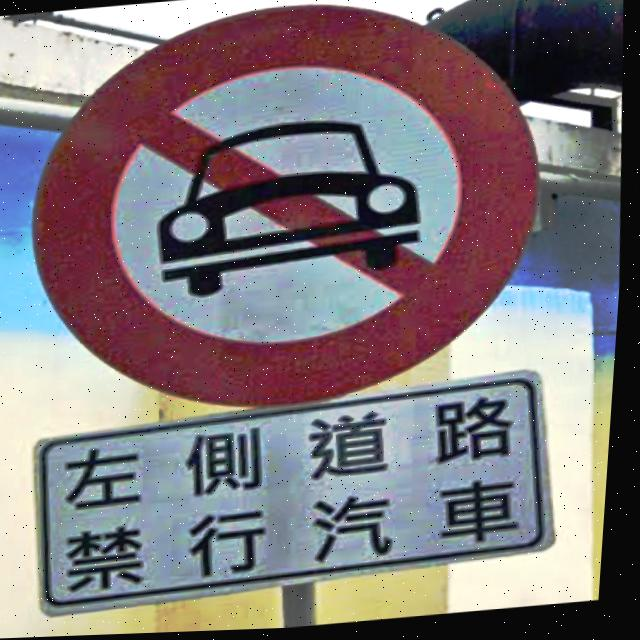nocar: (34, 7, 544, 413)
